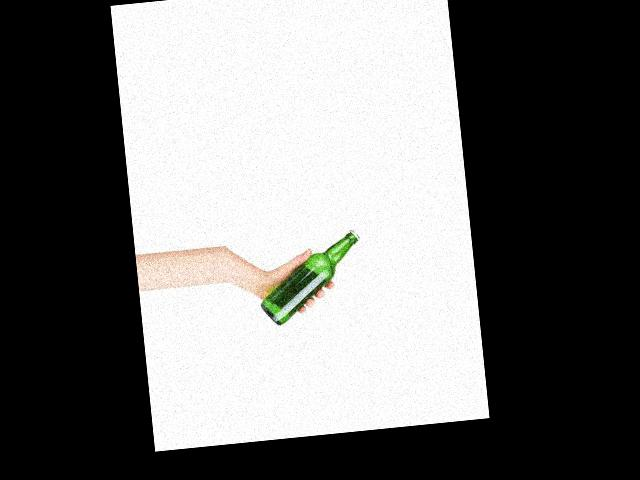beer: (251, 229, 365, 326)
